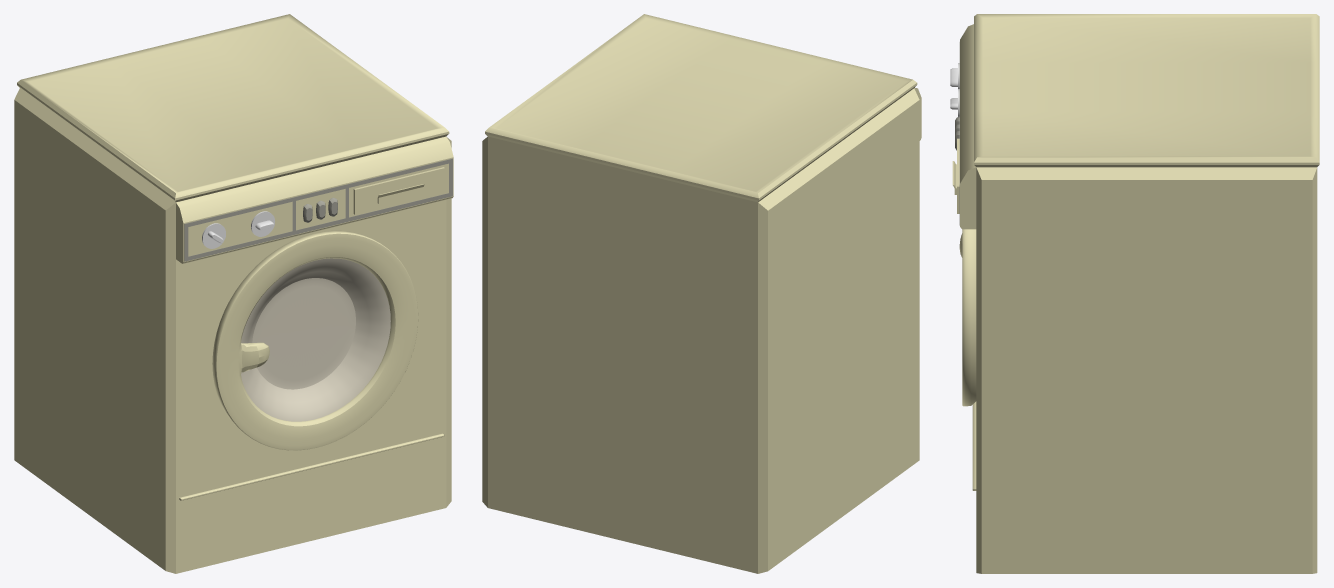
The model's file is stiralka.fbx.
3 renders of one model, left to right at view 1: azimuth 30°, elevation 25°; view 2: azimuth 150°, elevation 25°; view 3: azimuth 270°, elevation 25°, orthographic. The views are drawn at different scales.
Visible parts, largest first — view 1: Circle.005; view 2: Circle.005; view 3: Circle.005.
Part boxes in pixels (<box>): Circle.005: <box>14,14,453,573</box>; Circle.005: <box>482,14,921,573</box>; Circle.005: <box>950,14,1319,573</box>.
Bounding box in the file's own units: 188 × 239 × 193.
